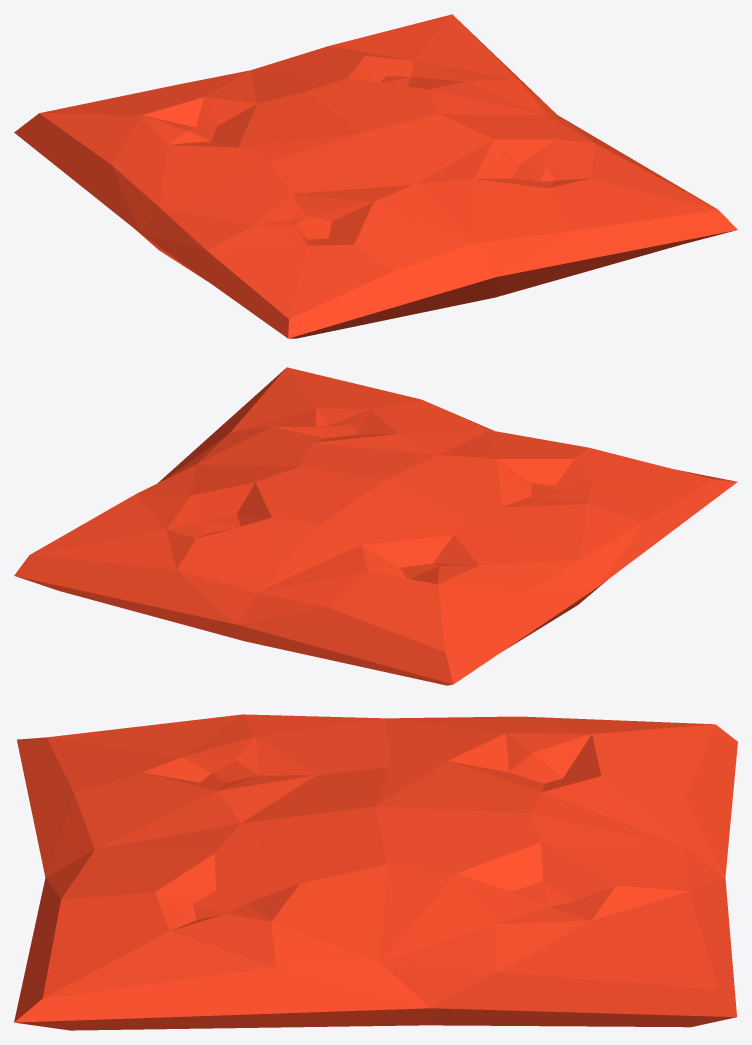
File: SM_Pillow_City.fbx
3 views of the same model, one above another, from view 1: azimuth 30°, elevation 25°; view 2: azimuth 150°, elevation 25°; view 3: azimuth 270°, elevation 25° (orthographic). The views are drawn at different scales.
Visible parts, largest first — view 1: SM_Pillow_City; view 2: SM_Pillow_City; view 3: SM_Pillow_City.
Part boxes in pixels (x1,y1,x2,y2): SM_Pillow_City: [14, 14, 737, 338]; SM_Pillow_City: [14, 367, 737, 685]; SM_Pillow_City: [14, 714, 737, 1030].
Size of the model in its own units: 0.5991 by 0.0941 by 0.6412.
